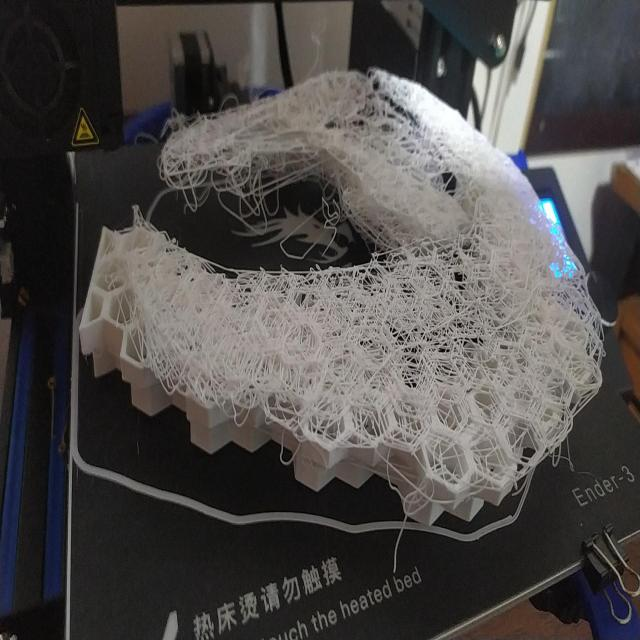Spaghetti: (148, 104, 606, 491)
